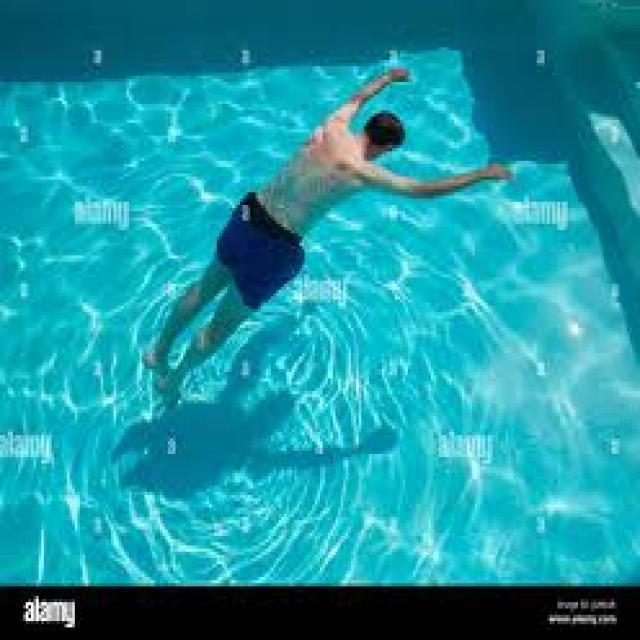Swimming: (132, 24, 528, 443)
